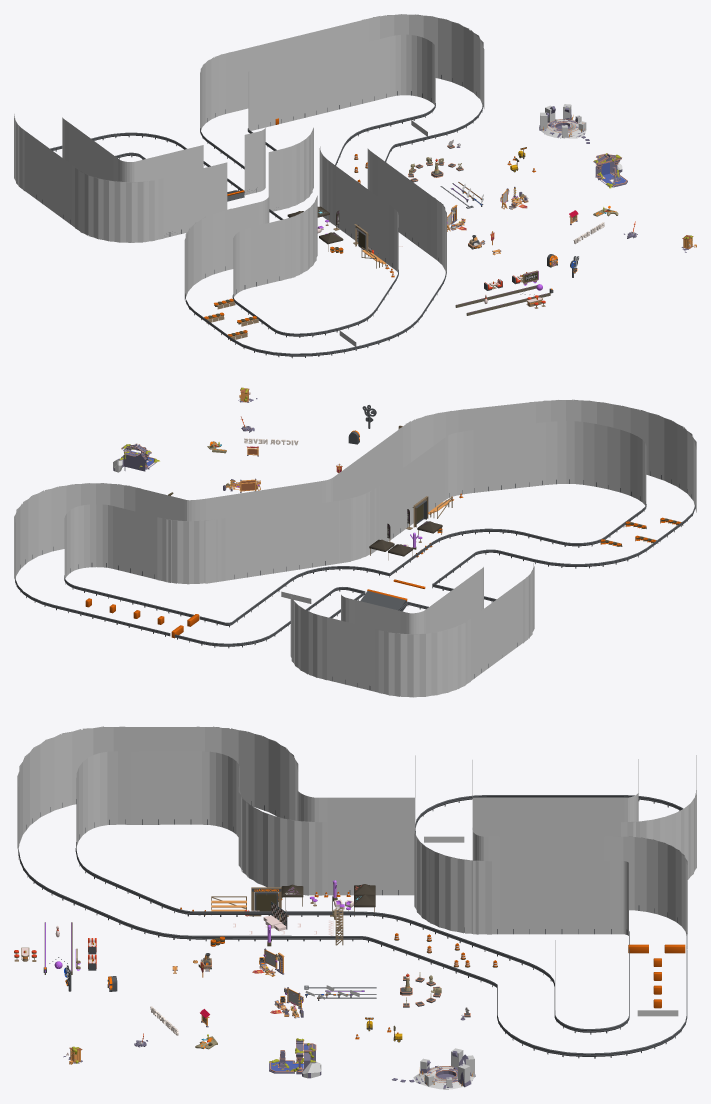
File: areas.glb
3 views of the same model, one above another, from view 1: azimuth 30°, elevation 25°; view 2: azimuth 150°, elevation 25°; view 3: azimuth 270°, elevation 25° (orthographic). The views are drawn at different scales.
Visible parts, largest first — view 1: trimesh, refRailsPhysicalFixed, Cube.089, refBumpersPhysicalKinematicPositionBased, blocks; view 2: trimesh, refRailsPhysicalFixed, Cube.089, jump, Cube.088; view 3: trimesh, refRailsPhysicalFixed, Cube.088, Cube.089, Cube.173.
Part boxes in pixels (box(x1,y1,x2,y2)): trimesh: box(14, 14, 484, 299); refRailsPhysicalFixed: box(36, 75, 483, 358); Cube.089: box(593, 153, 627, 188); refBumpersPhysicalKinematicPositionBased: box(455, 285, 550, 315); blocks: box(204, 298, 258, 340); trimesh: box(14, 399, 696, 697); refRailsPhysicalFixed: box(15, 471, 695, 690); Cube.089: box(113, 443, 159, 471); jump: box(360, 579, 425, 611); Cube.088: box(370, 496, 452, 560); trimesh: box(17, 726, 696, 1009); refRailsPhysicalFixed: box(18, 795, 687, 1058); Cube.088: box(210, 887, 374, 946); Cube.089: box(269, 1038, 321, 1078); Cube.173: box(392, 1051, 475, 1088).
Bounding box in the file's own units: 169 × 22.1 × 169.
Materials: 27 (13 with a texture image).
